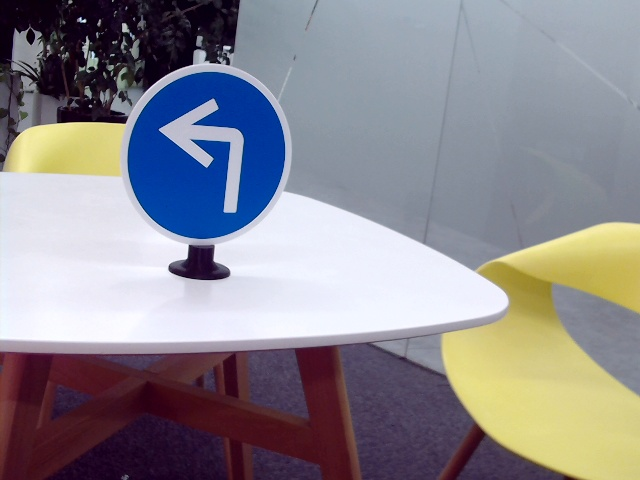turn_left: (157, 92, 250, 216)
